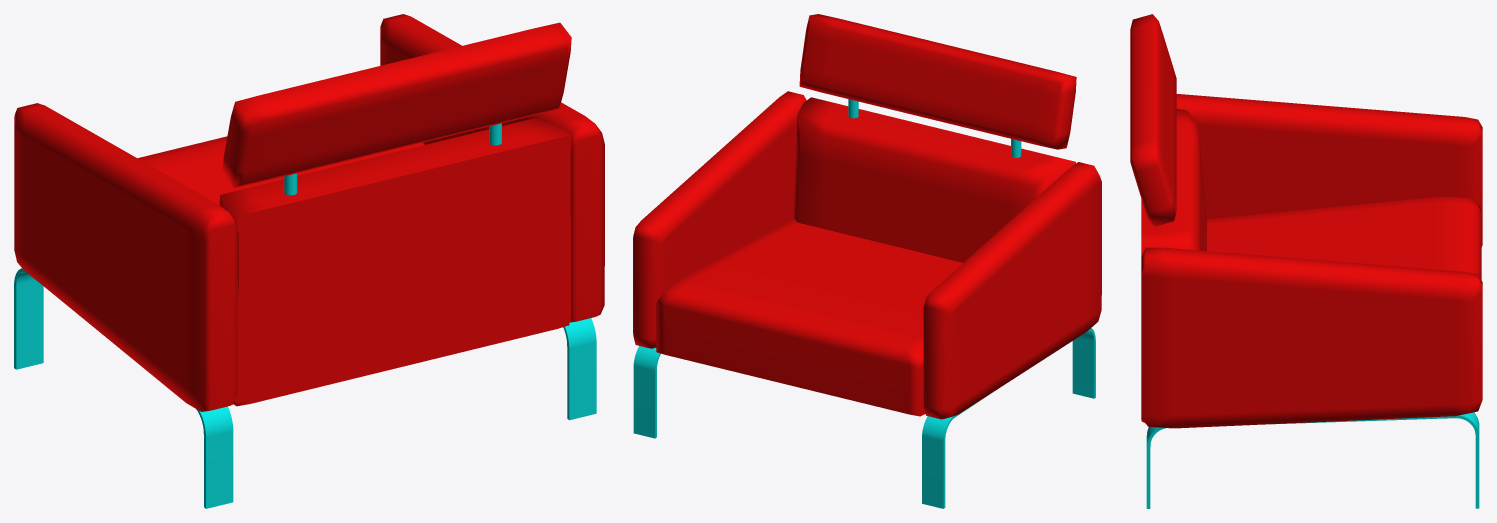
The model's file is Sillon_low02.fbx.
3 renders of one model, left to right at view 1: azimuth 30°, elevation 25°; view 2: azimuth 150°, elevation 25°; view 3: azimuth 270°, elevation 25°, orthographic. The views are drawn at different scales.
Parts seen in each view (by area): view 1: Mueble_low, Metals_low; view 2: Mueble_low, Metals_low; view 3: Mueble_low, Metals_low.
Part boxes in pixels (left/top/right/bottom): Mueble_low: left=14, top=14, right=604, bottom=411; Metals_low: left=14, top=123, right=596, bottom=508; Mueble_low: left=633, top=14, right=1101, bottom=419; Metals_low: left=633, top=99, right=1095, bottom=508; Mueble_low: left=1130, top=14, right=1482, bottom=428; Metals_low: left=1146, top=412, right=1479, bottom=508.
Bounding box in the file's own units: 70.31 × 66.71 × 61.94.
